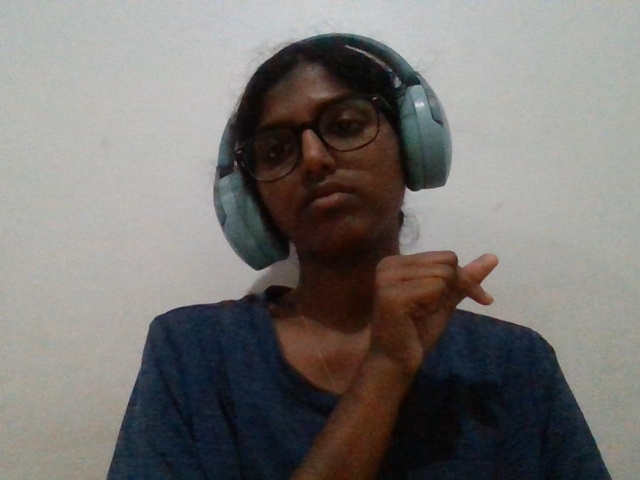G: (328, 222, 513, 450)
